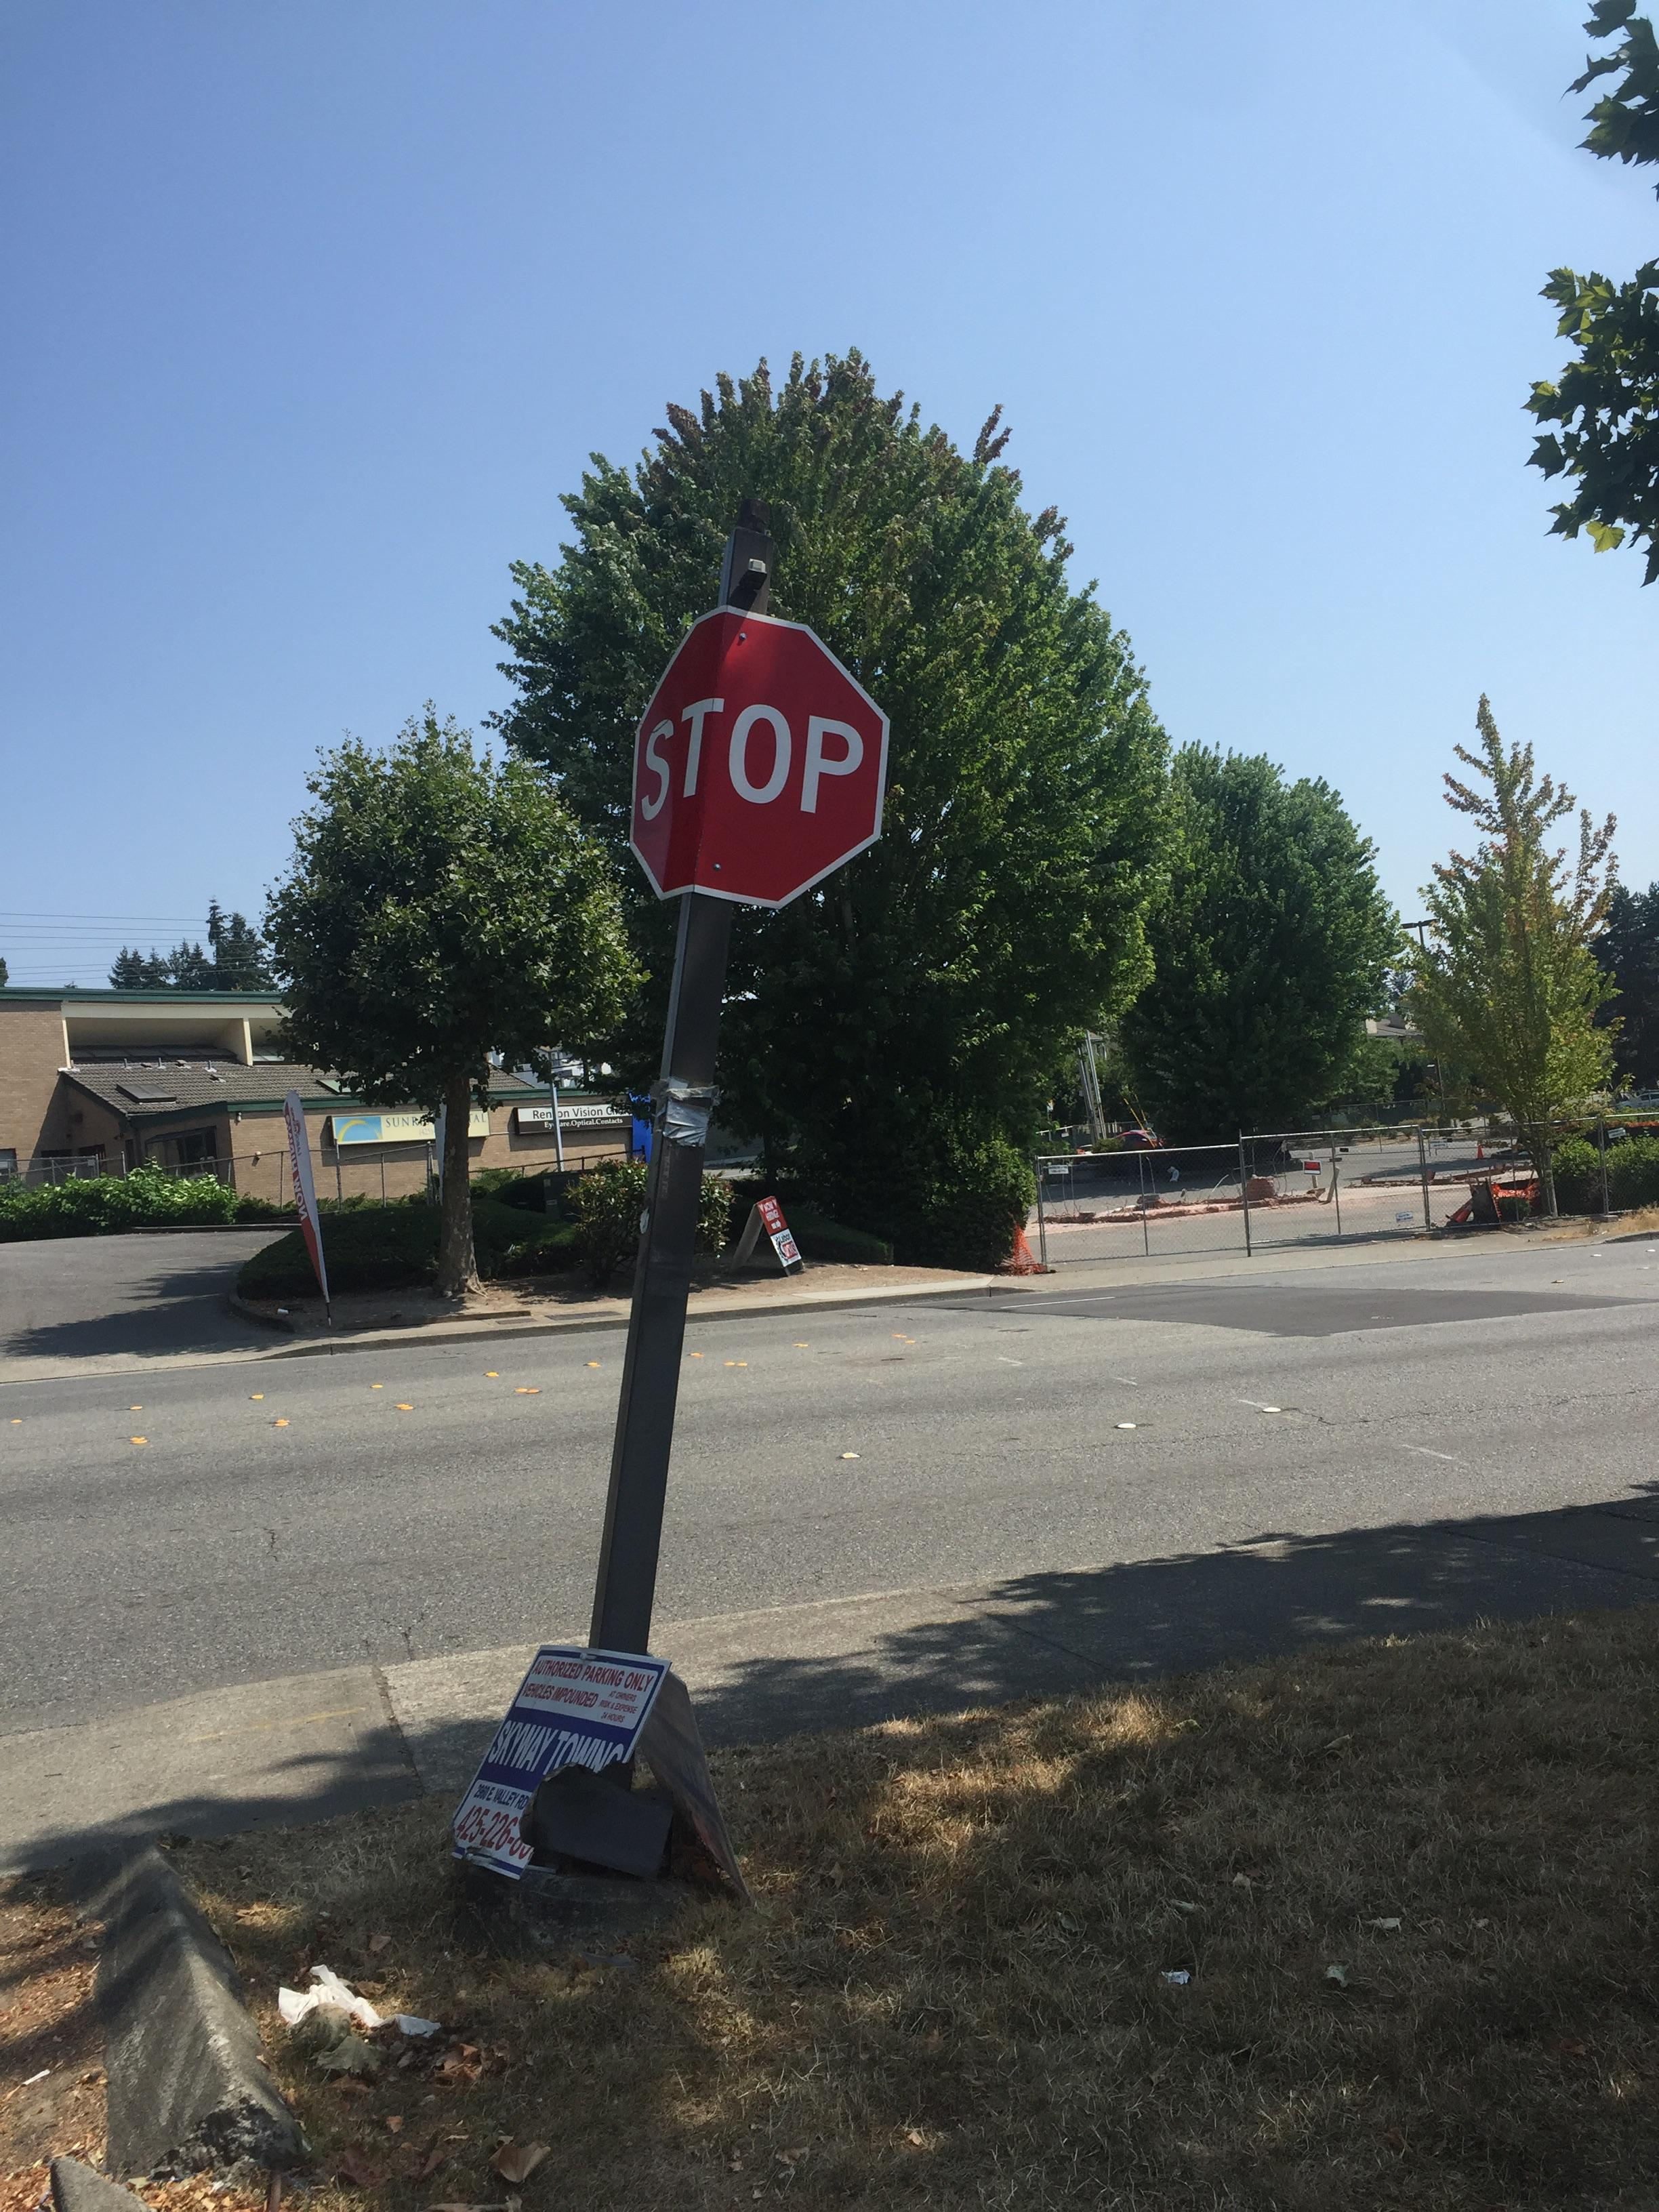stop: (610, 615, 922, 913)
